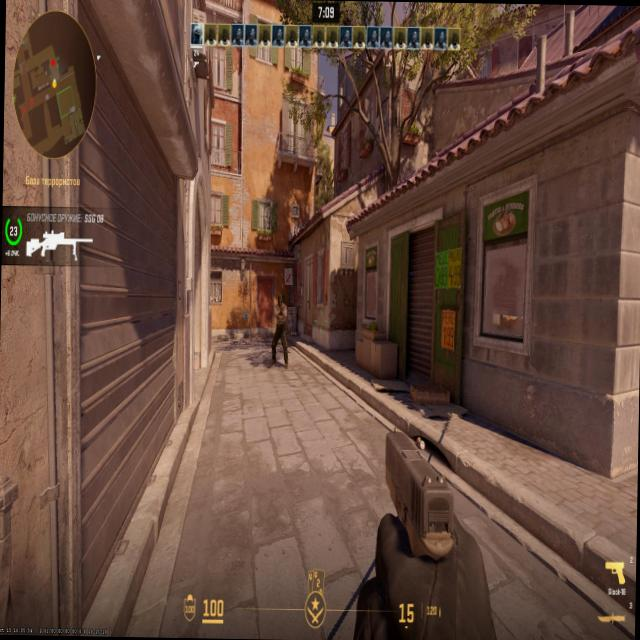T: (274, 295, 286, 358)
T_heat: (276, 294, 283, 313)
